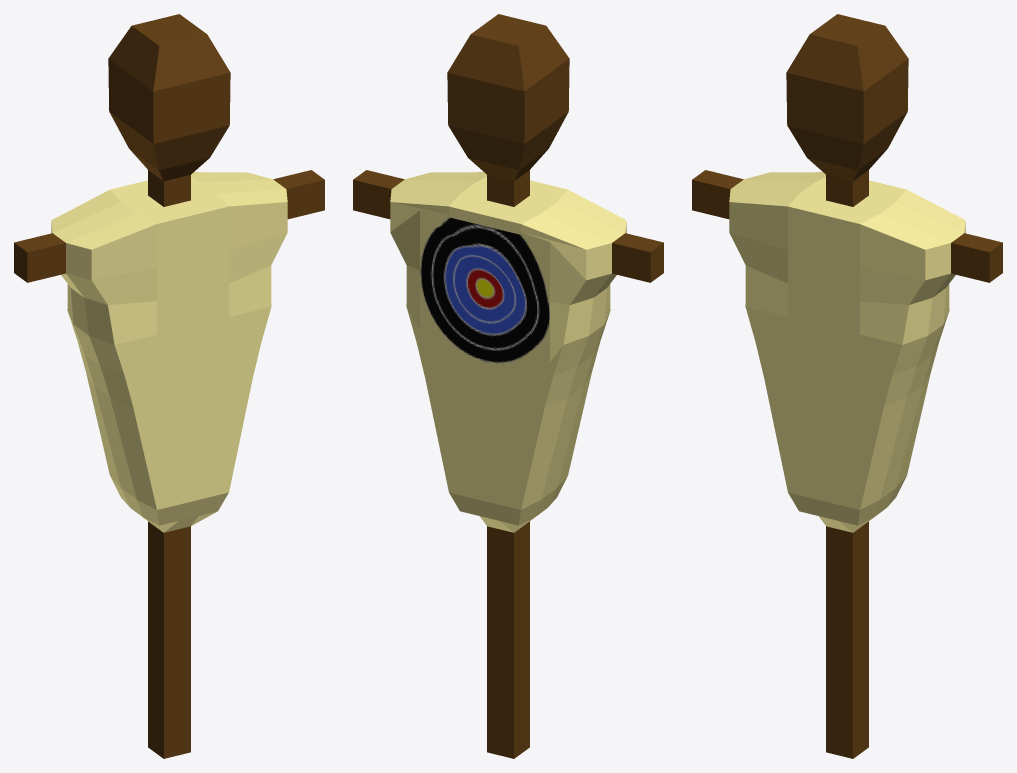
File: scarecrow.obj
The picture shows the model from 3 angles, left to right: view 1: azimuth 30°, elevation 25°; view 2: azimuth 150°, elevation 25°; view 3: azimuth 330°, elevation 25°; orthographic projection.
Parts seen in each view (by area): view 1: Cube_Cube.001; view 2: Cube_Cube.001; view 3: Cube_Cube.001.
Boxes of the visible parts, x1=… form: Cube_Cube.001: x1=14, y1=14, x2=324, y2=758; Cube_Cube.001: x1=353, y1=14, x2=663, y2=758; Cube_Cube.001: x1=692, y1=14, x2=1002, y2=758.
Bounding box in the file's own units: 19.36 × 44.76 × 5.31.
Materials: 1 (1 with a texture image).
